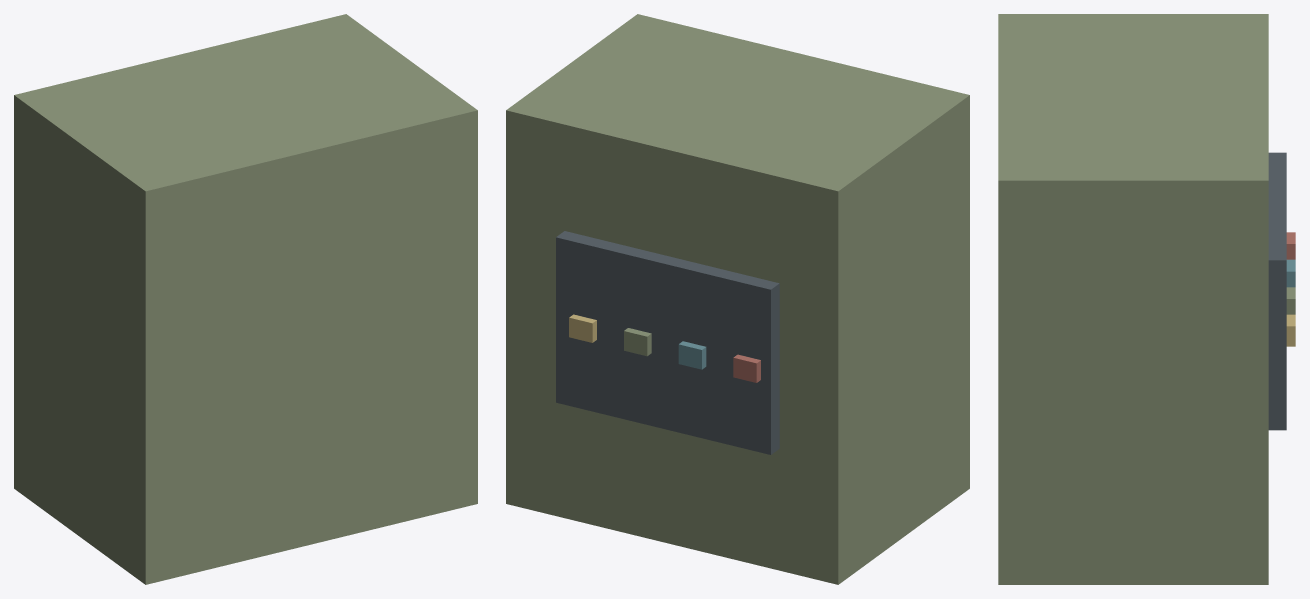
The model's file is iz2_logistics_hand_truck.glb.
3 renders of one model, left to right at view 1: azimuth 30°, elevation 25°; view 2: azimuth 150°, elevation 25°; view 3: azimuth 270°, elevation 25°, orthographic. The views are drawn at different scales.
Parts seen in each view (by area): view 1: body; view 2: body; view 3: body.
Boxes of the visible parts, <box> form: body: <box>14,14,477,584</box>; body: <box>506,14,969,584</box>; body: <box>998,14,1295,584</box>.
Bounding box in the file's own units: 0.8769 × 0.9925 × 0.6617.
